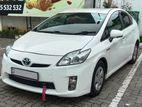car: (2, 8, 141, 98)
